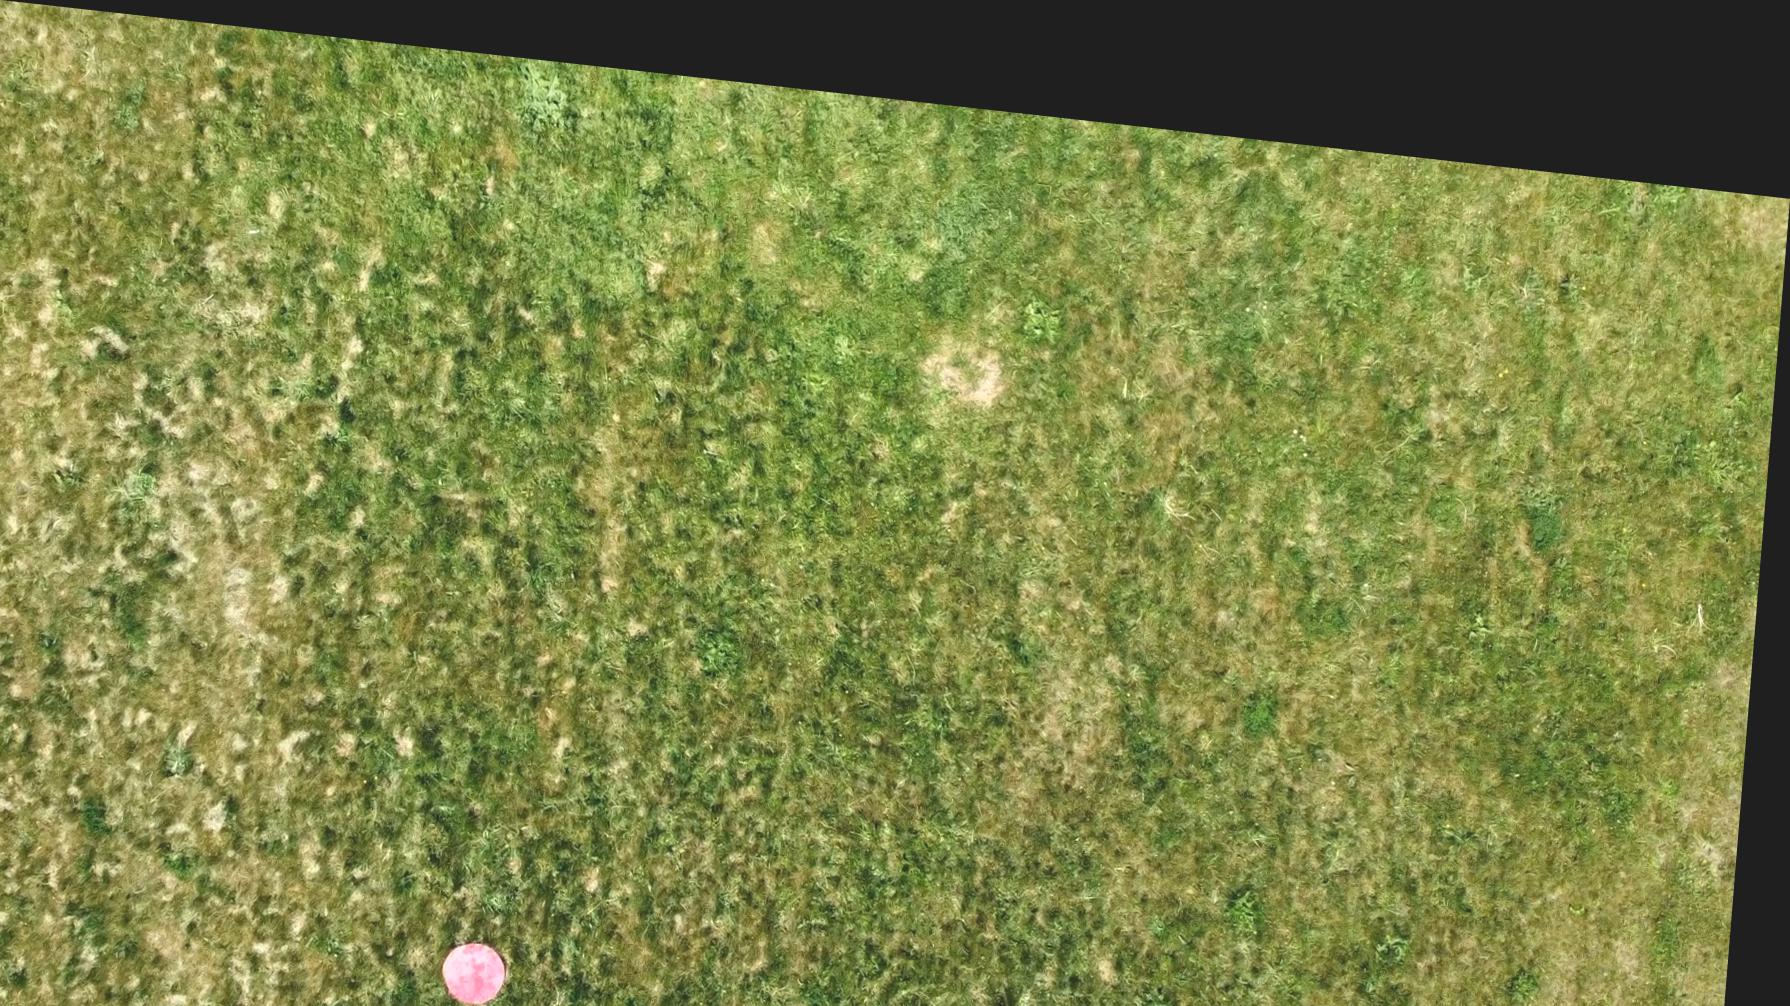Red: (454, 925, 526, 996)
